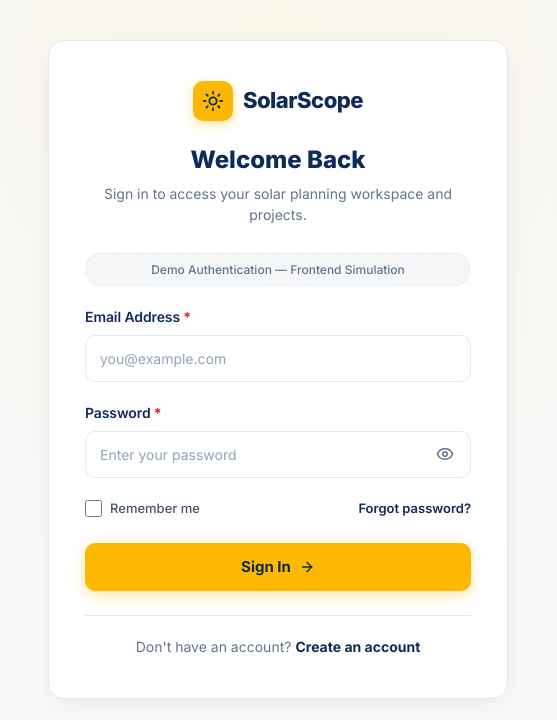
LoginForm — UX, Validation & Accessibility › validates malformed email syntax
Type "not-an-email" into the field labelled "Email Address *" at (278, 358), box [85,335,471,382]
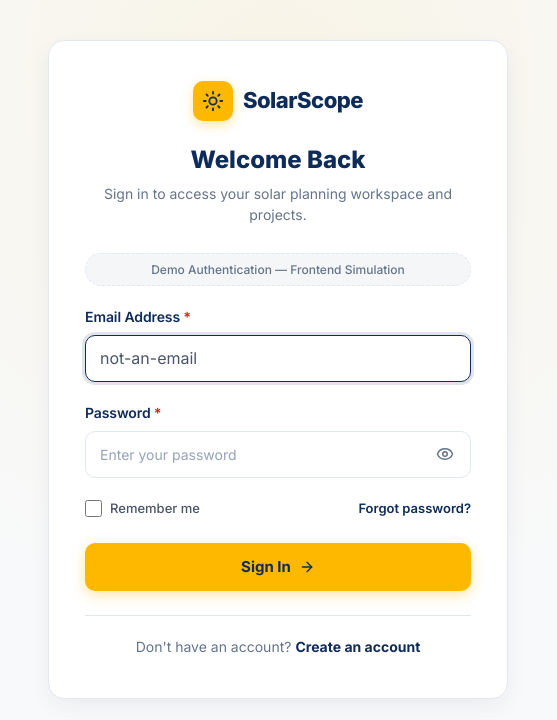
Type "secret123" into the password field labelled "Password *" at (278, 454), box [85,431,471,478]
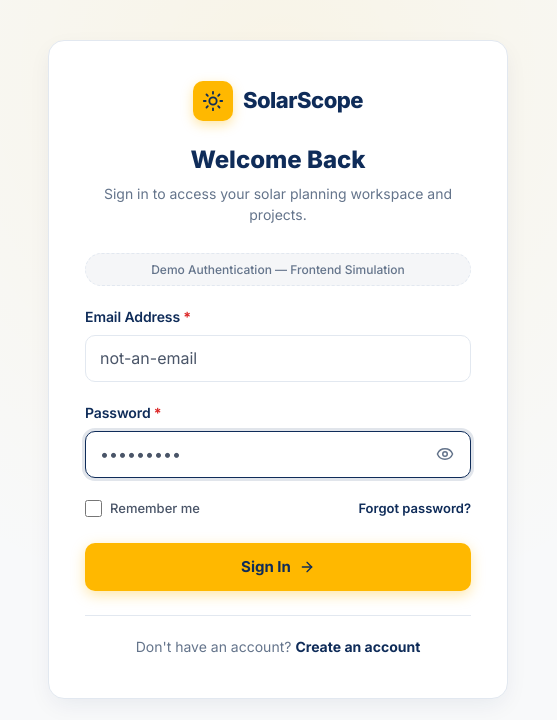
Submit the form from the button "Sign In", box [85,543,471,591]
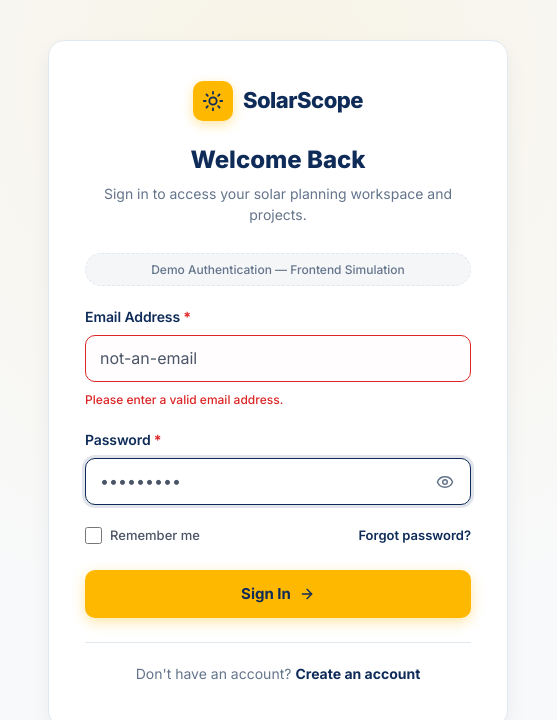
Check: the text "Please enter a valid email address." is shown, box [85,392,283,407]
